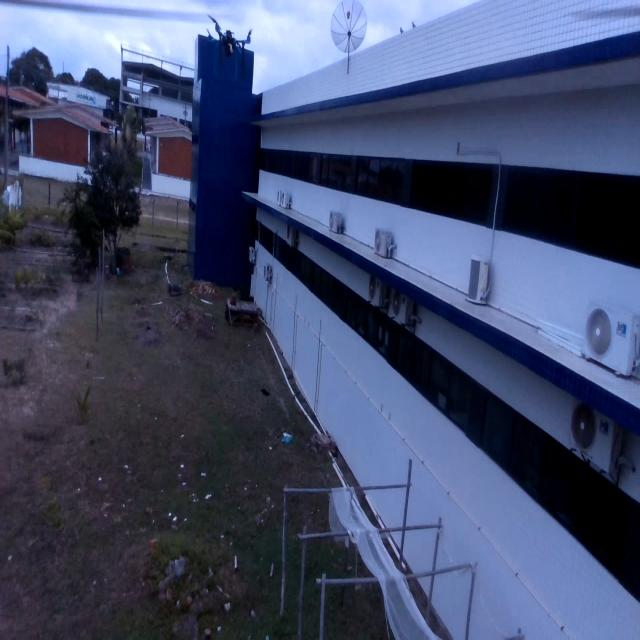-uav-: (203, 2, 257, 82)
